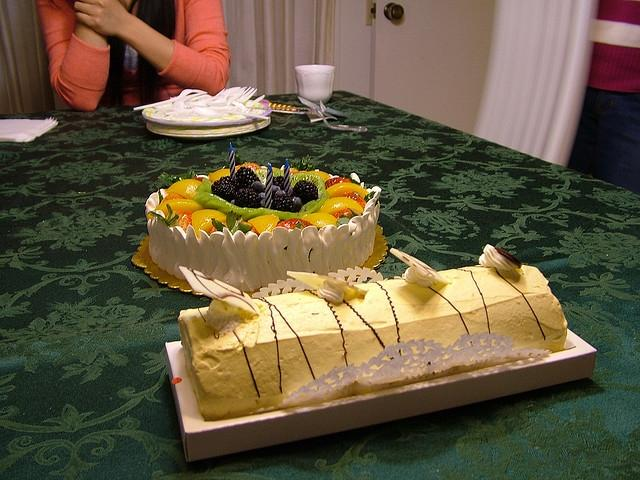blackberry: (212, 175, 242, 203), (292, 180, 318, 205), (234, 188, 262, 209), (237, 167, 260, 188), (271, 193, 296, 212), (272, 176, 284, 190)
kiwi: (255, 209, 299, 224), (290, 174, 326, 190), (310, 188, 328, 214), (216, 206, 258, 216), (298, 200, 318, 216), (193, 191, 214, 202), (204, 199, 228, 208), (198, 195, 218, 205), (254, 168, 268, 182), (202, 178, 213, 194), (290, 174, 306, 184), (272, 169, 284, 178)
strawberry: (208, 210, 260, 236), (276, 218, 314, 230), (342, 192, 366, 210), (174, 210, 193, 231), (325, 177, 352, 190), (160, 192, 187, 204), (332, 209, 354, 219), (246, 164, 258, 171), (192, 177, 204, 182)
